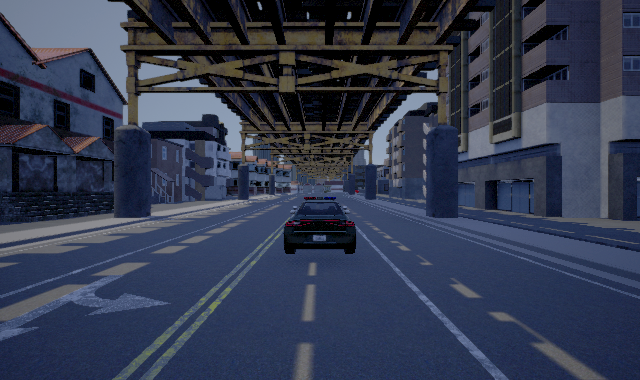vehicle: (283, 197, 356, 254)
